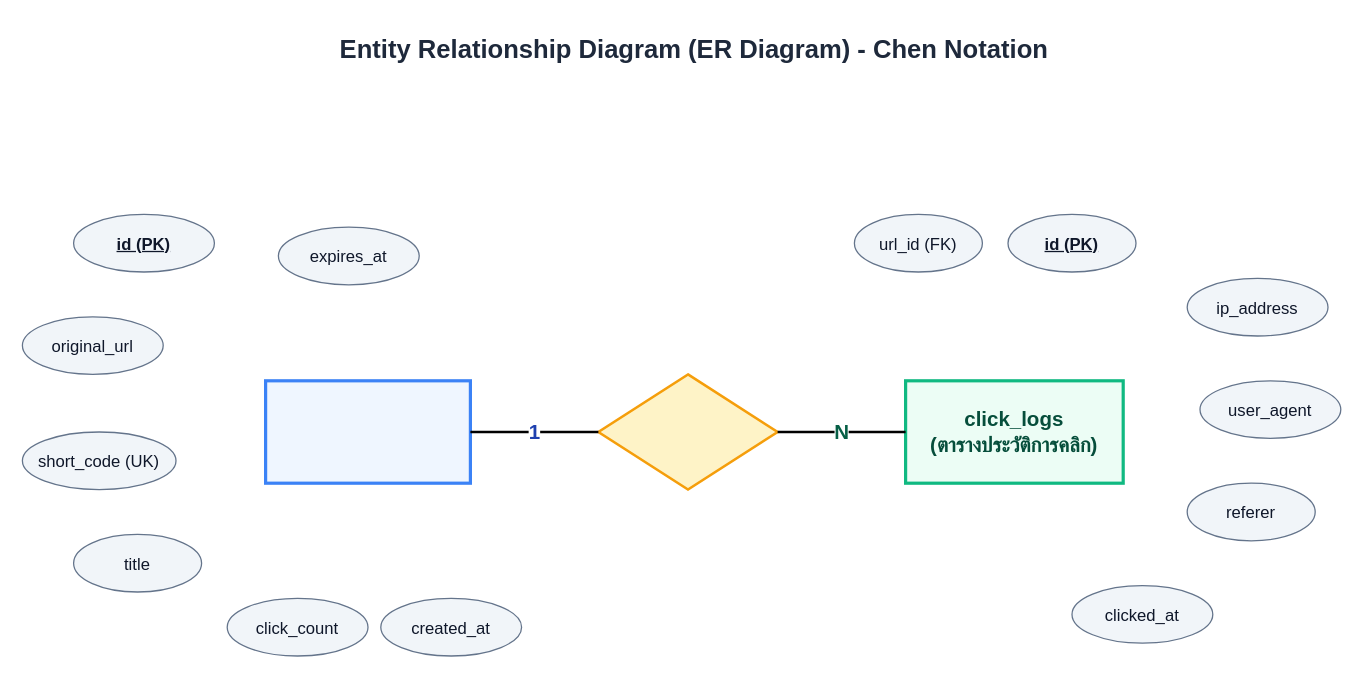
This 1364x680 diagram has some shape labels left out. The shapes that lost their labels are listed below. From the top down, each one's box as (x1, y1, x2, y2) in pixels, then its label:
(263, 379, 471, 484): urls (ตารางลิงก์)
(596, 372, 778, 490): has_logs (1 : N)
